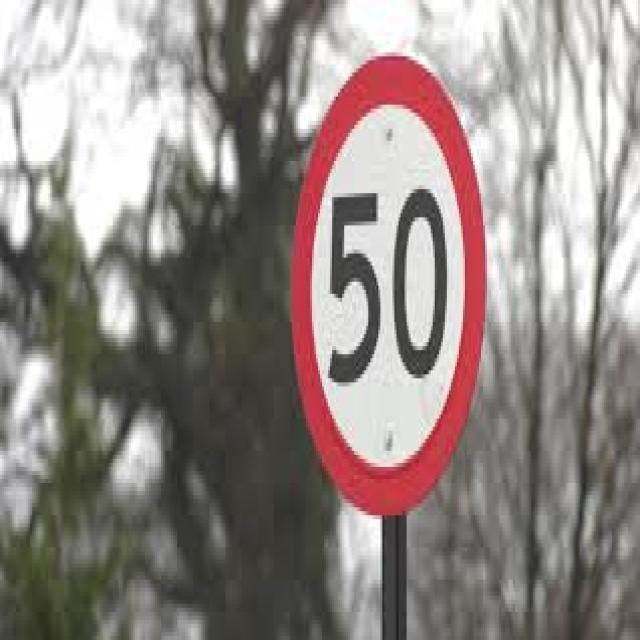Speed limit 50: (287, 46, 490, 521)
